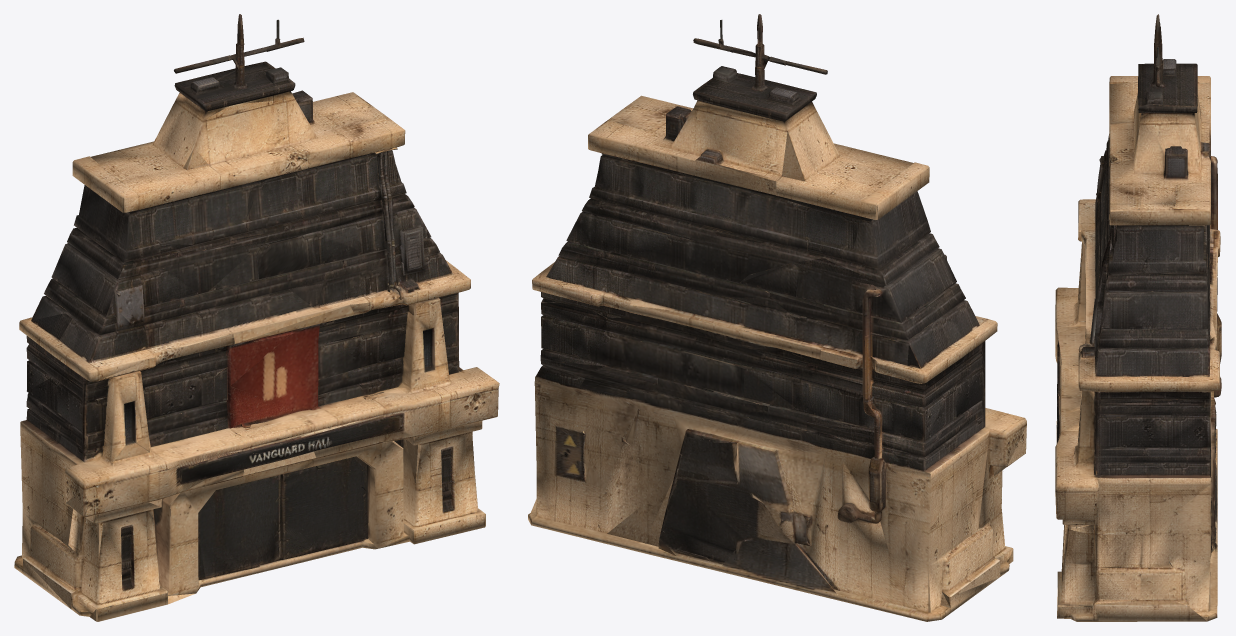
The model's file is hall.fbx.
The picture shows the model from 3 angles, left to right: view 1: azimuth 30°, elevation 25°; view 2: azimuth 150°, elevation 25°; view 3: azimuth 270°, elevation 25°; orthographic projection. The views are drawn at different scales.
Visible parts, largest first — view 1: Mesh_0; view 2: Mesh_0; view 3: Mesh_0.
Part boxes in pixels (x1,y1,x2,y2): Mesh_0: (14, 14, 499, 621); Mesh_0: (528, 14, 1026, 621); Mesh_0: (1055, 14, 1221, 621).
Bounding box in the file's own units: 159 × 190 × 56.13.
Materials: 1 (1 with a texture image).
